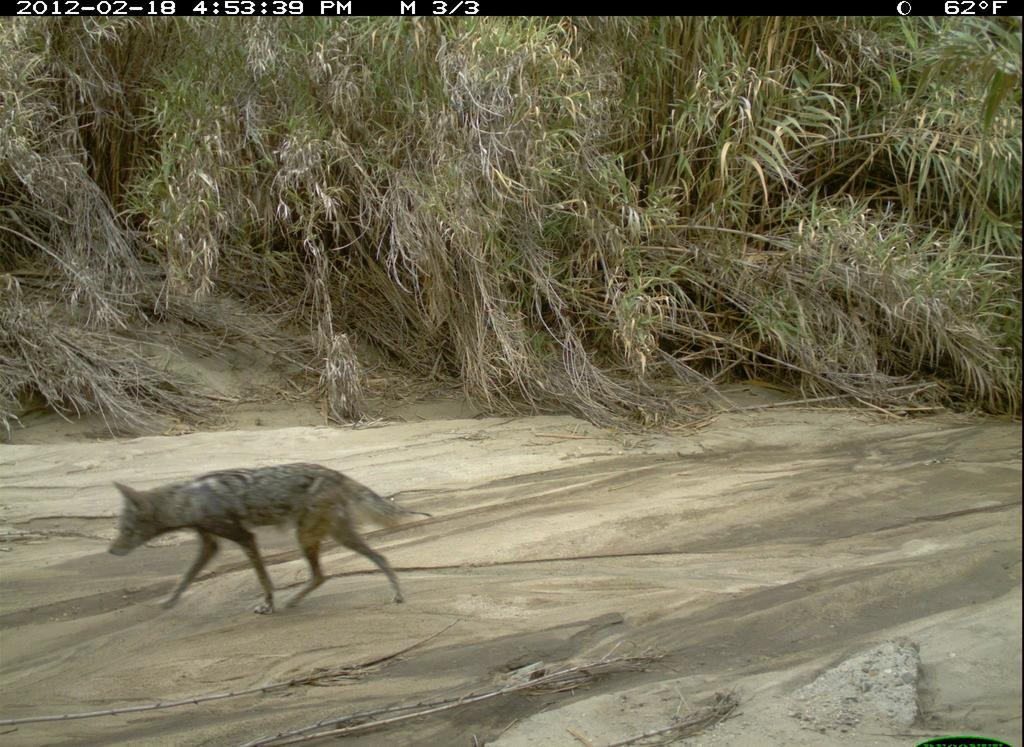coyote: (103, 459, 436, 628)
